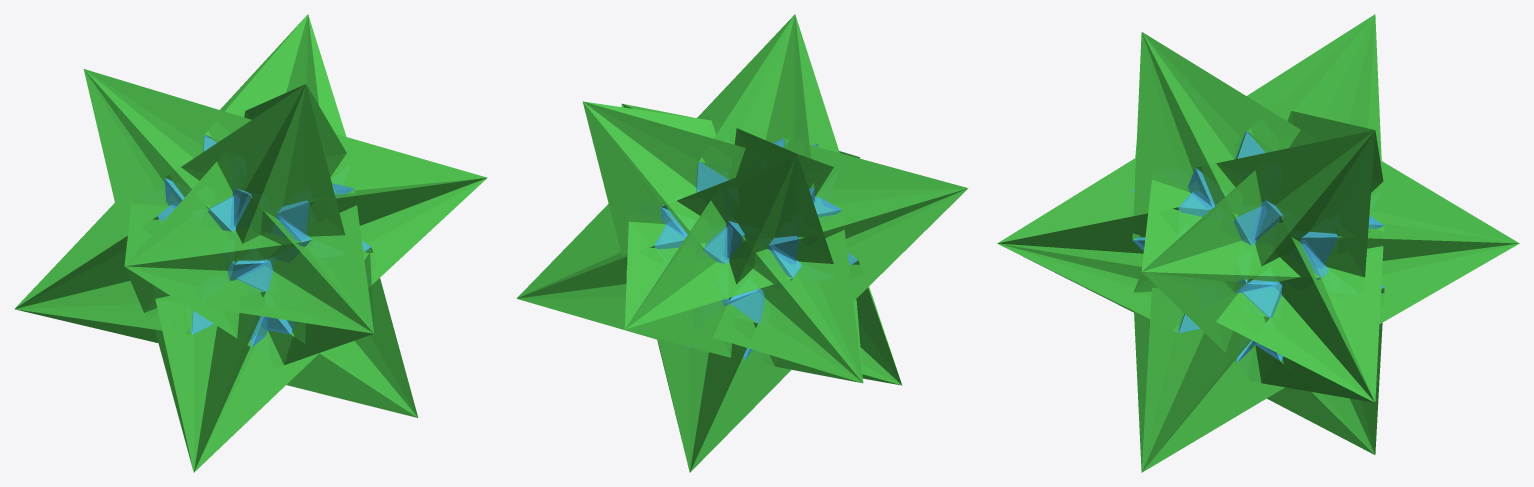
The model's file is 40_Dodecaugmented_Gisid.obj.
3 renders of one model, left to right at view 1: azimuth 30°, elevation 25°; view 2: azimuth 150°, elevation 25°; view 3: azimuth 270°, elevation 25°, orthographic. The views are drawn at different scales.
Bounding box in the file's own units: 2.08 × 2.19 × 2.45.
